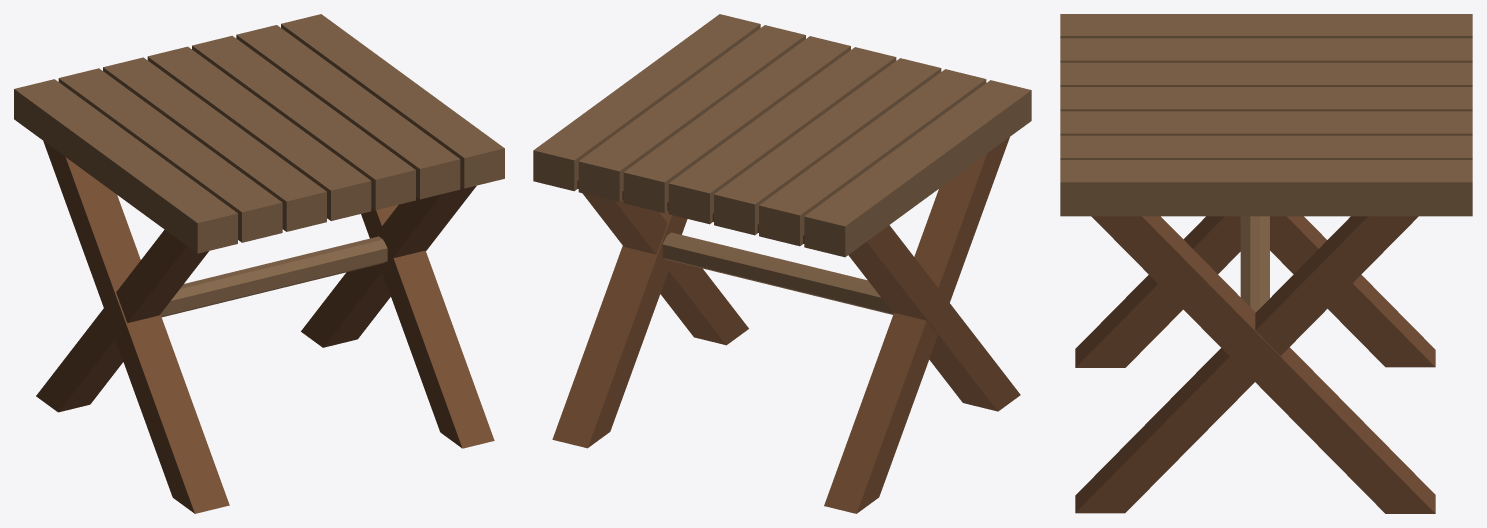
The model's file is lowpoly_wood_stool.fbx.
3 views of the same model, side by side, from view 1: azimuth 30°, elevation 25°; view 2: azimuth 150°, elevation 25°; view 3: azimuth 270°, elevation 25° (orthographic). The views are drawn at different scales.
Visible parts, largest first — view 1: Cube; view 2: Cube; view 3: Cube.
Part boxes in pixels (box(x1,y1,x2,y2)): Cube: box(14, 14, 504, 513); Cube: box(533, 14, 1031, 513); Cube: box(1060, 14, 1472, 513).
Bounding box in the file's own units: 59.9 × 55.25 × 62.
